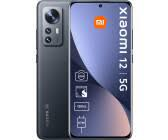Smartphone: (71, 1, 131, 138), (39, 1, 80, 138)
